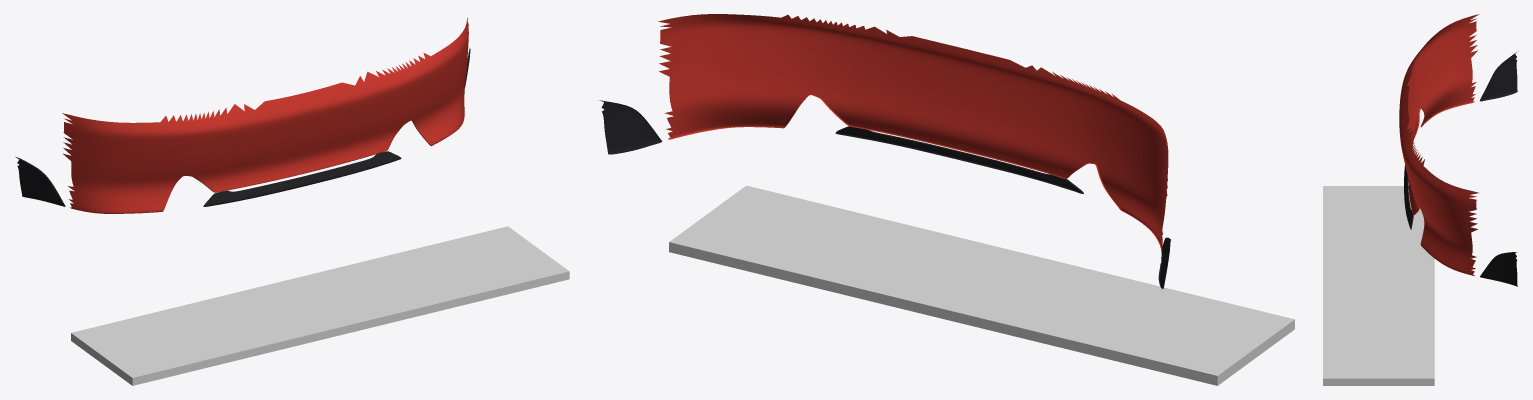
File: vela_front_split_auth.glb
3 views of the same model, side by side, from view 1: azimuth 30°, elevation 25°; view 2: azimuth 150°, elevation 25°; view 3: azimuth 270°, elevation 25° (orthographic). The views are drawn at different scales.
Visible parts, largest first — view 1: bumper_front.002, Cube, bumper_front_lower.001; view 2: bumper_front.002, Cube, bumper_front_lower.001; view 3: Cube, bumper_front.002, bumper_front_lower.001.
Part boxes in pixels (x1,y1,x2,y2): bumper_front.002: (62,18,468,213); Cube: (71,226,569,385); bumper_front_lower.001: (15,48,470,206); bumper_front.002: (658,14,1168,252); Cube: (669,185,1294,385); bumper_front_lower.001: (599,100,1170,288); Cube: (1323,186,1434,385); bumper_front.002: (1399,14,1479,275); bumper_front_lower.001: (1404,51,1517,286).
Size of the model in its own units: 1.8 by 0.7835 by 0.7377.
